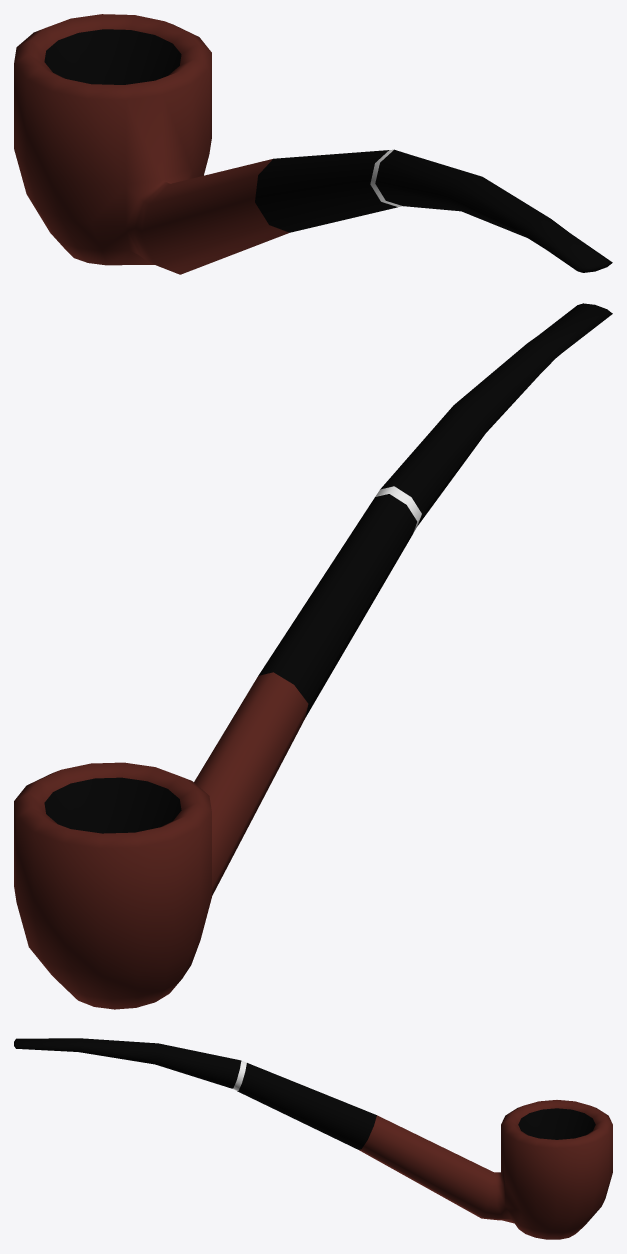
Rendered from tobacco_pipe.fbx.
The picture shows the model from 3 angles, top to bottom: view 1: azimuth 30°, elevation 25°; view 2: azimuth 150°, elevation 25°; view 3: azimuth 270°, elevation 25°; orthographic projection. The views are drawn at different scales.
Parts seen in each view (by area): view 1: tobacco_pipe; view 2: tobacco_pipe; view 3: tobacco_pipe.
Part boxes in pixels (x1,y1,x2,y2): tobacco_pipe: (14,14,612,274); tobacco_pipe: (14,303,612,1009); tobacco_pipe: (14,1038,612,1239).
Bounding box in the file's own units: 106 × 199 × 569.
